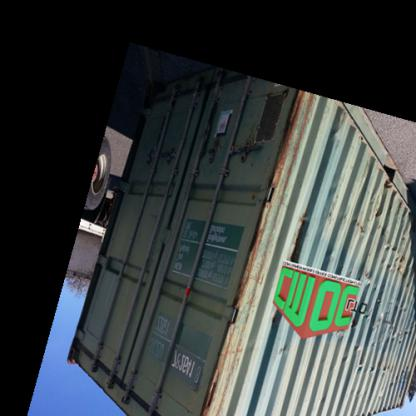Damage: (274, 87, 316, 204), (208, 328, 247, 414), (348, 304, 416, 344), (354, 194, 392, 236), (381, 241, 410, 285), (353, 358, 393, 384), (274, 341, 294, 367)
